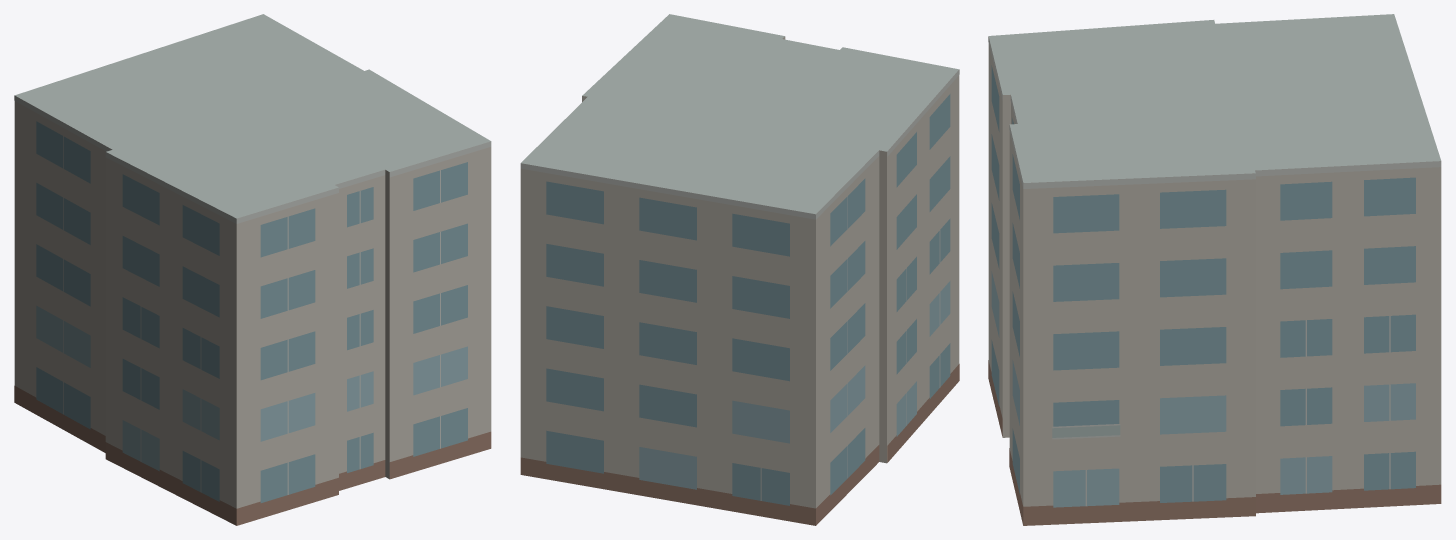
Rendered from survey-upis-32743572.glb.
3 views of the same model, side by side, from view 1: azimuth 30°, elevation 25°; view 2: azimuth 150°, elevation 25°; view 3: azimuth 270°, elevation 25° (orthographic). The views are drawn at different scales.
Visible parts, largest first — view 1: survey-upis-32743572.tmp; view 2: survey-upis-32743572.tmp; view 3: survey-upis-32743572.tmp.
Boxes of the visible parts, <box> form: survey-upis-32743572.tmp: <box>14,14,491,525</box>; survey-upis-32743572.tmp: <box>520,14,959,525</box>; survey-upis-32743572.tmp: <box>988,14,1441,525</box>.
Bounding box in the file's own units: 14.72 × 13.9 × 16.65.
